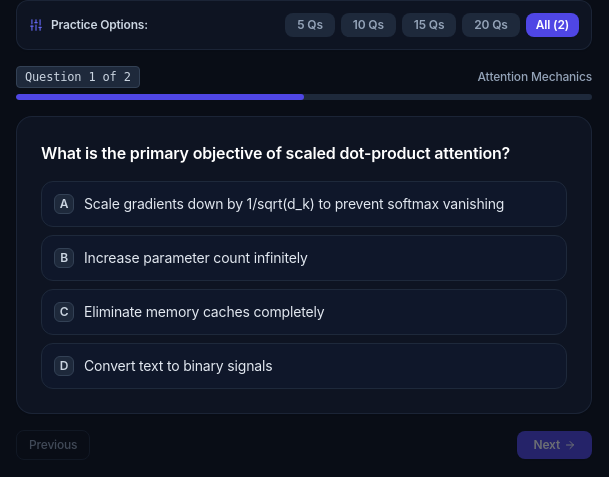
Test: PracticeQuiz Component › adjusts question count dynamically when 5, 10, 15, or 20 option is selected
The image size is (609, 477).
Expected: the text "Question 1 of 2" is shown, [16,66,140,88]
// Select 5 questions
Click the radio button with aria-label "5 questions".
click(310, 25)  # box [285,13,335,37]
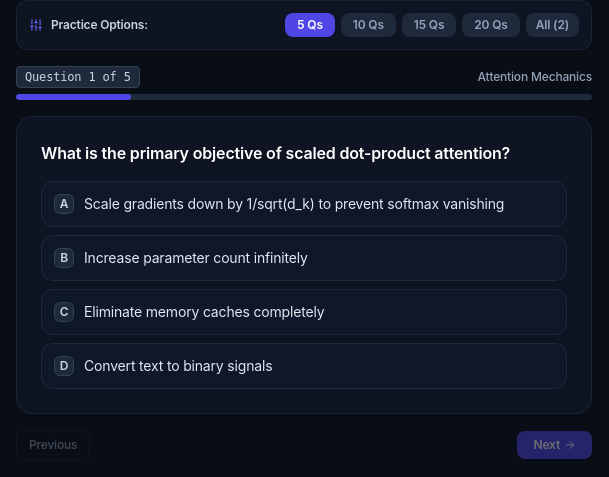
Now the text "Question 1 of 5" is shown, box [16,66,140,88]
// Select 10 questions
Click the radio button with aria-label "10 questions".
click(368, 25)  # box [341,13,396,37]
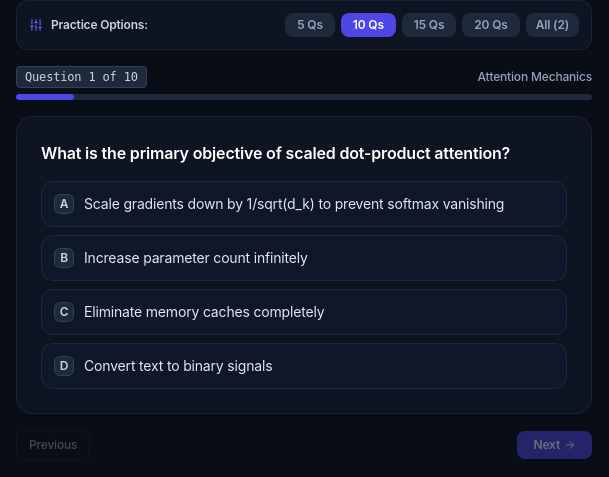
Now the text "Question 1 of 10" is shown, box [16,66,147,88]
// Select 15 questions
Click the radio button with aria-label "15 questions".
click(429, 25)  # box [402,13,456,37]
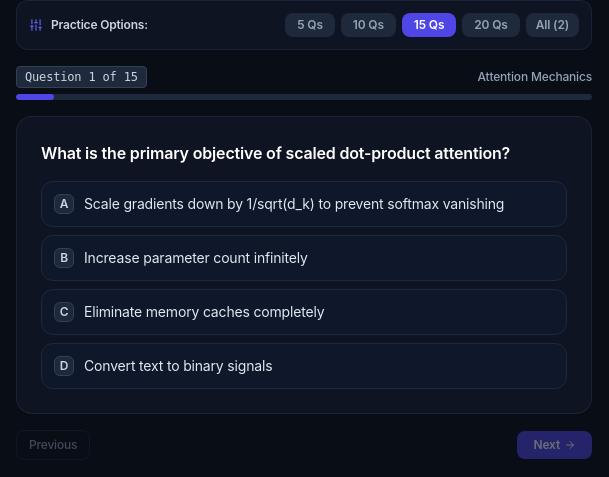
Now the text "Question 1 of 15" is shown, box [16,66,147,88]
// Select 20 questions
Click the radio button with aria-label "20 questions".
click(491, 25)  # box [462,13,520,37]
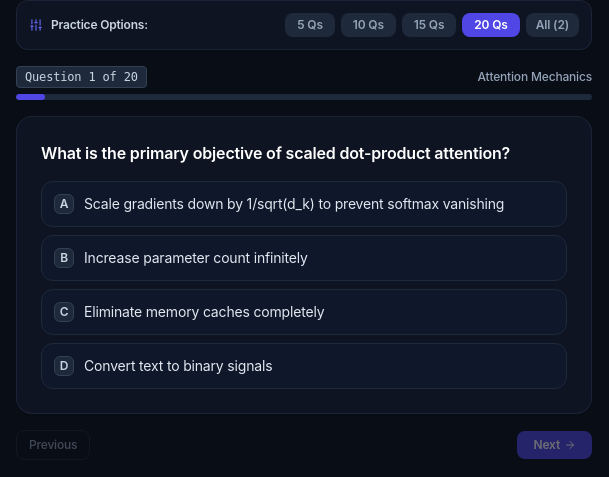
Now the text "Question 1 of 20" is shown, box [16,66,147,88]
